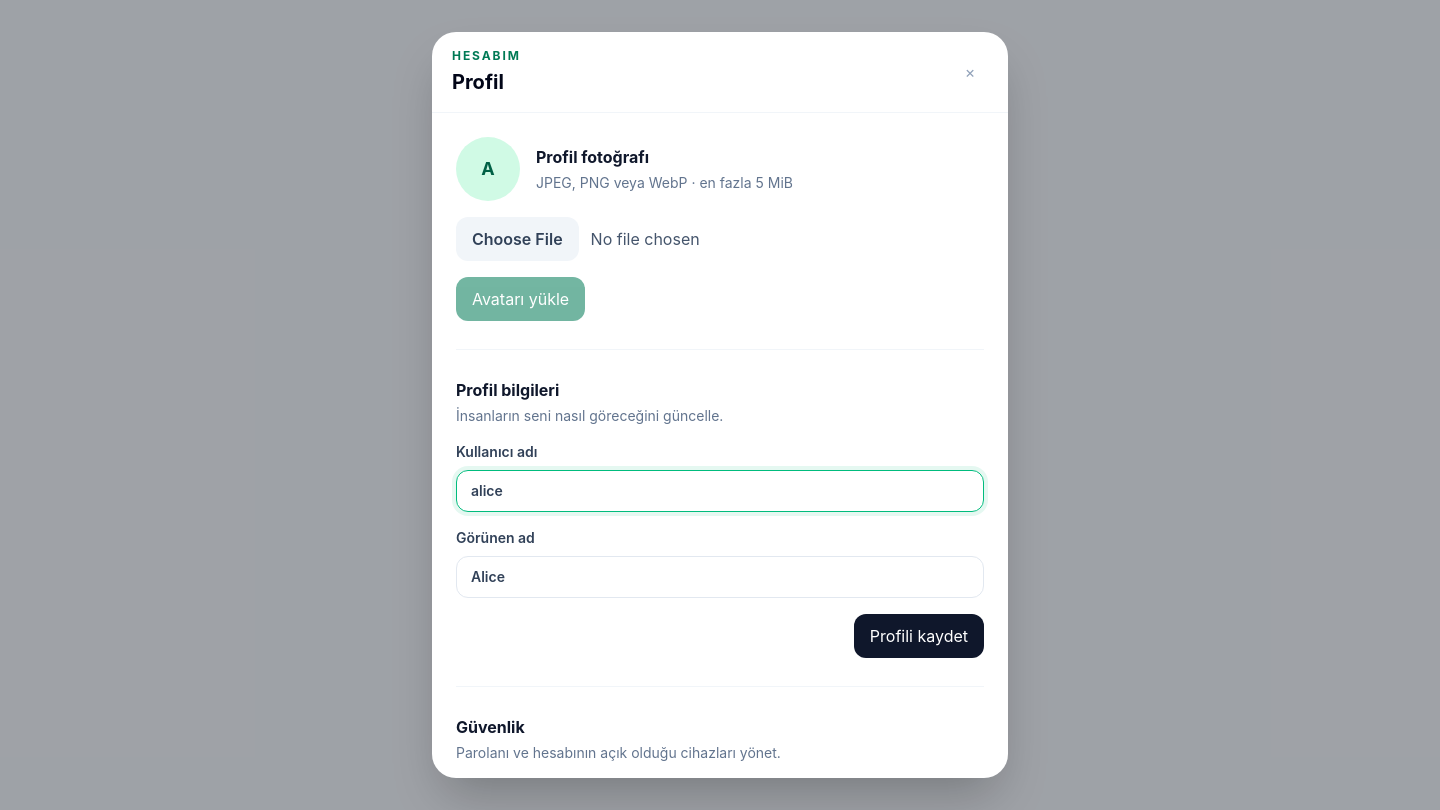
it: ProfileDialog › submits changed profile fields and presents success feedback
Step 1. Replace the text in the field labelled "Görünen ad" with "Alice Cooper" → (720, 577), box [456,556,984,598]
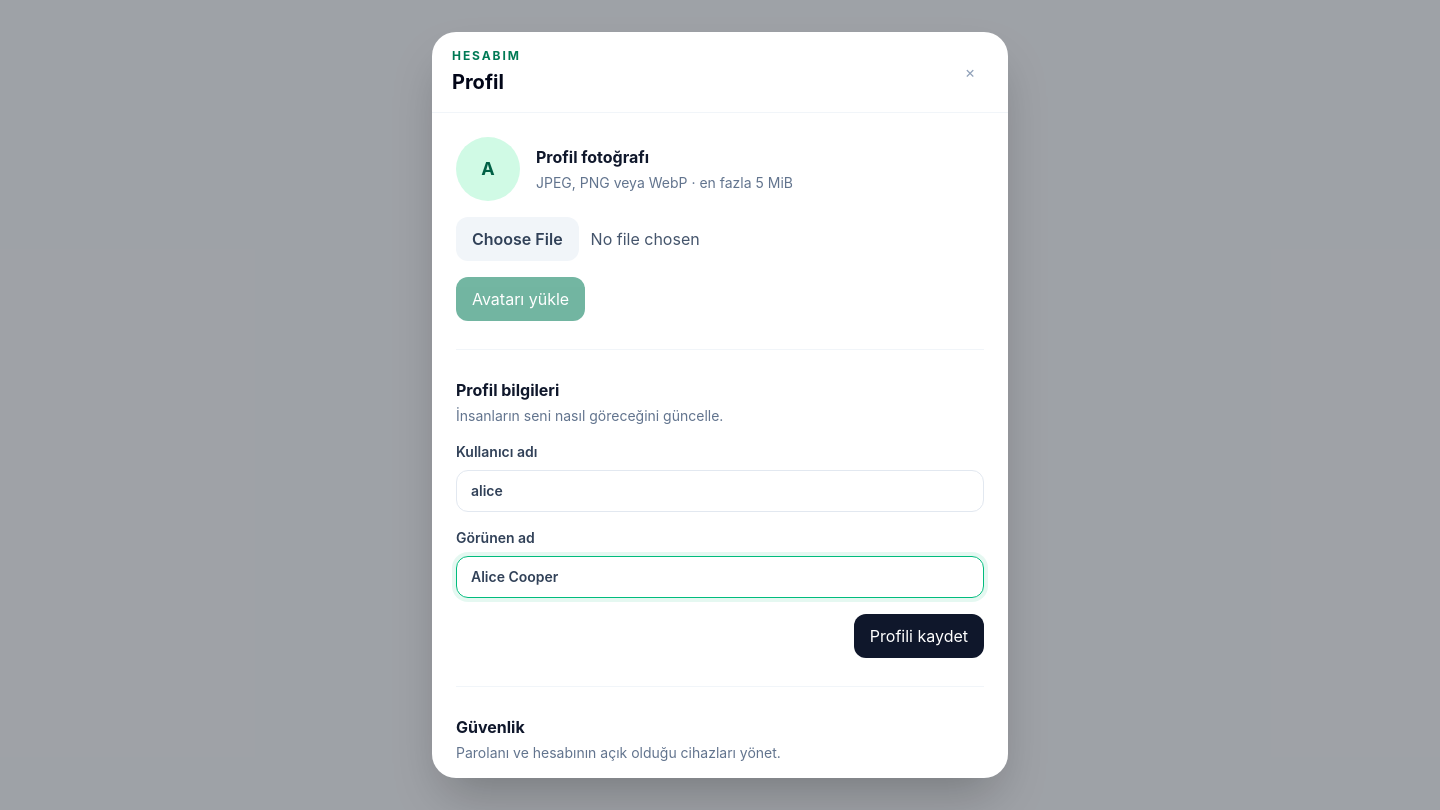
Step 2. Click the button "Profili kaydet" → (919, 636), box [854,614,984,658]
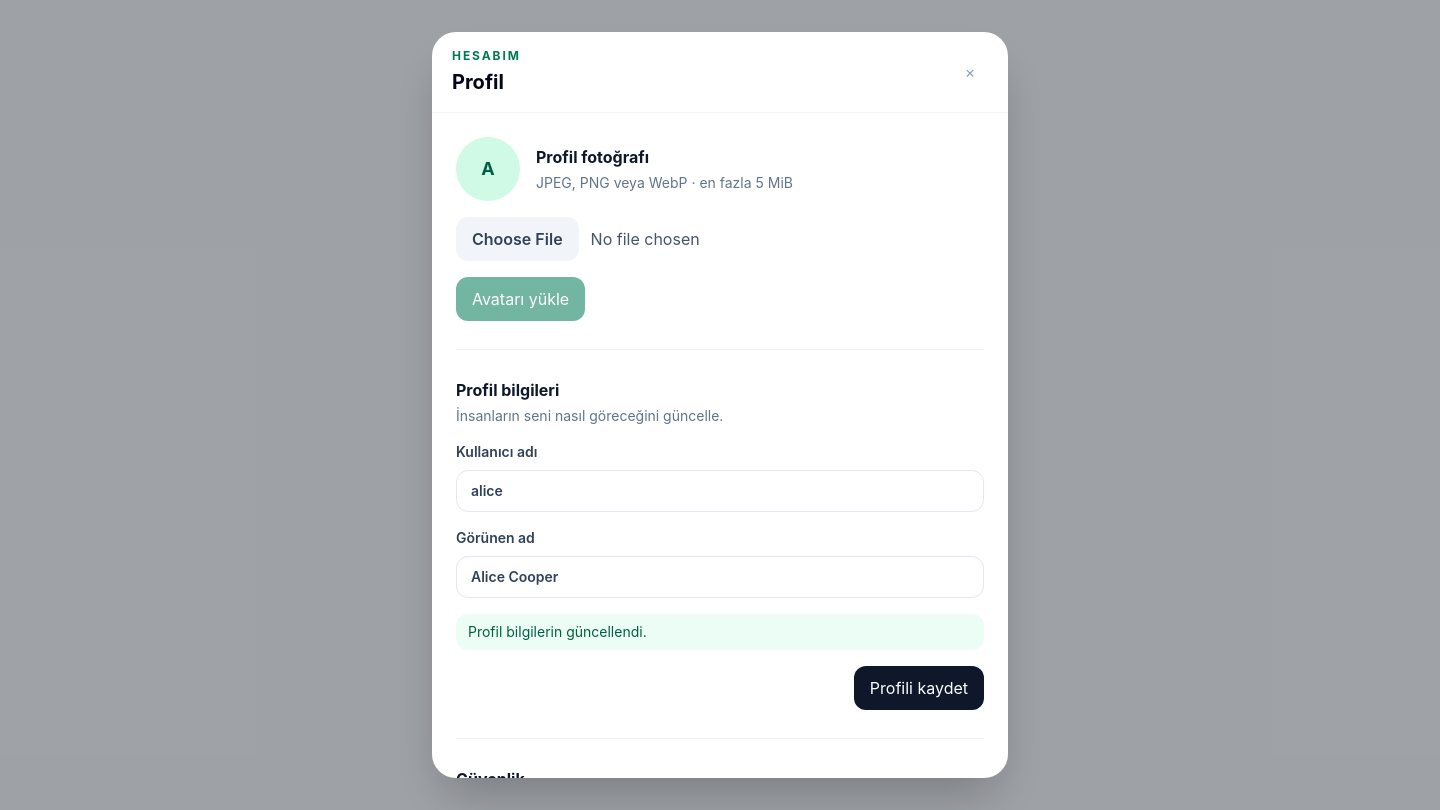
Expected: the message reads "Profil bilgilerin güncellendi.", [468,623,647,640]
